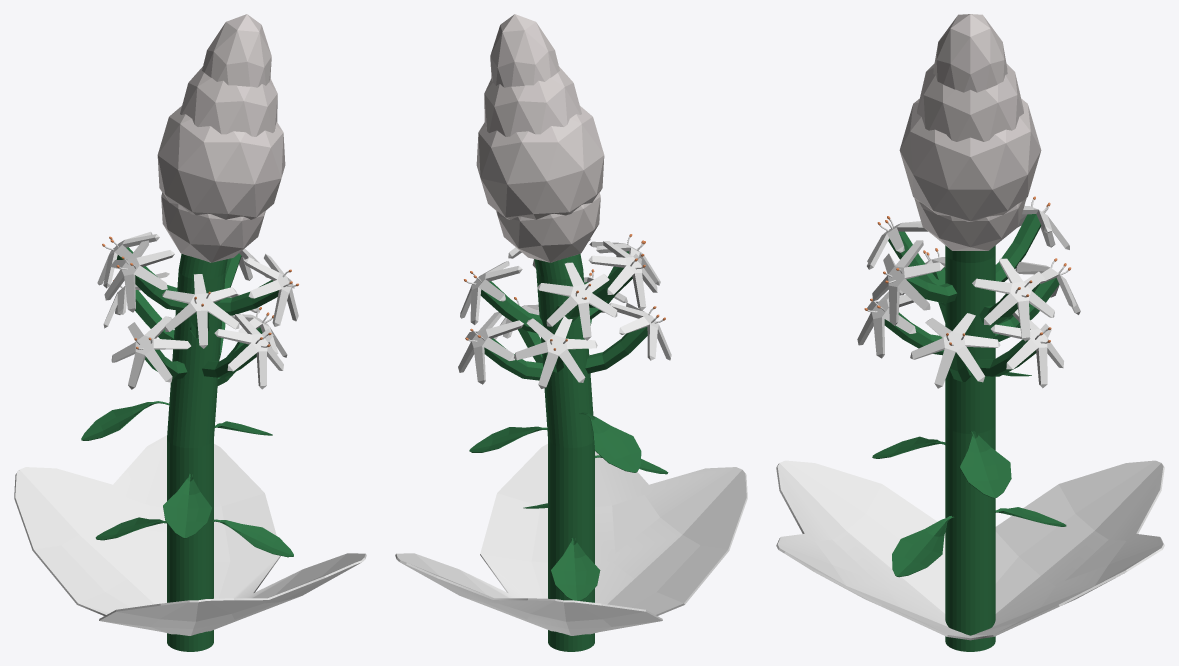
Rendered from Asphodel.fbx.
The picture shows the model from 3 angles, left to right: view 1: azimuth 30°, elevation 25°; view 2: azimuth 150°, elevation 25°; view 3: azimuth 270°, elevation 25°; orthographic projection. The views are drawn at different scales.
Visible parts, largest first — view 1: Leaf_bottom, TopPart, Stem, FlowerFace.001, FlowerFace.008, leaf.001, FlowerFace, FlowerFace.007, FlowerFace.004, leaf, leaf.003, FlowerFace.002 (+7 smaller); view 2: Leaf_bottom, TopPart, Stem, FlowerFace.005, FlowerFace.002, leaf.004, leaf, FlowerFace.006, FlowerFace, FlowerFace.003, FlowerFace.008, Branch.008 (+4 smaller); view 3: Leaf_bottom, TopPart, Stem, FlowerFace.009, FlowerFace.003, FlowerFace.004, leaf.002, leaf.003, FlowerFace.006, FlowerFace.007, Branch.002, FlowerFace.005 (+9 smaller).
Part boxes in pixels (x1,y1,x2,y2): Leaf_bottom: [14, 435, 366, 635]; TopPart: [157, 14, 285, 262]; Stem: [167, 254, 227, 651]; FlowerFace.001: [162, 274, 239, 348]; FlowerFace.008: [111, 316, 190, 389]; leaf.001: [163, 473, 212, 538]; FlowerFace: [104, 240, 174, 312]; FlowerFace.007: [214, 314, 283, 389]; FlowerFace.004: [243, 254, 298, 326]; leaf: [81, 401, 169, 440]; leaf.003: [212, 519, 293, 557]; FlowerFace.002: [97, 231, 159, 288]; Leaf_bottom: [395, 444, 747, 635]; TopPart: [476, 14, 604, 262]; Stem: [534, 254, 594, 651]; FlowerFace.005: [514, 316, 597, 388]; FlowerFace.002: [537, 262, 617, 340]; leaf.004: [551, 537, 600, 600]; leaf: [579, 412, 641, 472]; FlowerFace.006: [458, 312, 523, 384]; FlowerFace: [588, 241, 657, 310]; FlowerFace.003: [460, 261, 522, 324]; FlowerFace.008: [609, 302, 671, 360]; Branch.008: [585, 327, 647, 373]; Leaf_bottom: [776, 460, 1164, 640]; TopPart: [899, 14, 1041, 250]; Stem: [945, 245, 995, 651]; FlowerFace.009: [910, 313, 1000, 388]; FlowerFace.003: [972, 258, 1054, 341]; FlowerFace.004: [872, 240, 944, 325]; leaf.002: [959, 430, 1011, 498]; leaf.003: [892, 516, 953, 577]; FlowerFace.006: [991, 309, 1063, 388]; FlowerFace.007: [857, 290, 916, 358]; Branch.002: [995, 214, 1041, 281]; FlowerFace.005: [1015, 261, 1080, 314].
Bounding box in the file's own units: 535 × 1350 × 723.
